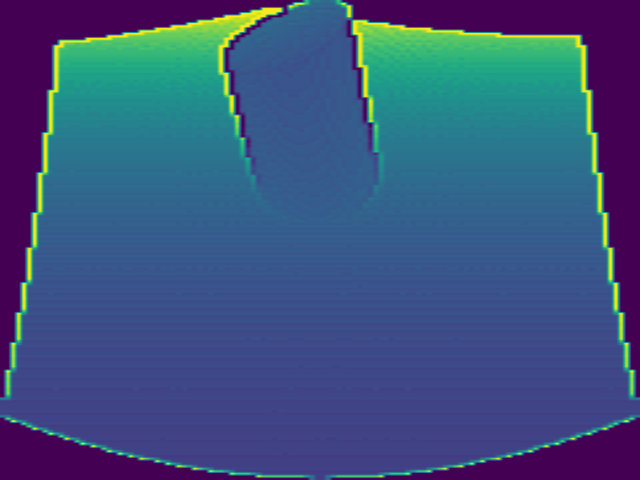cylinder: (218, 1, 383, 215)
